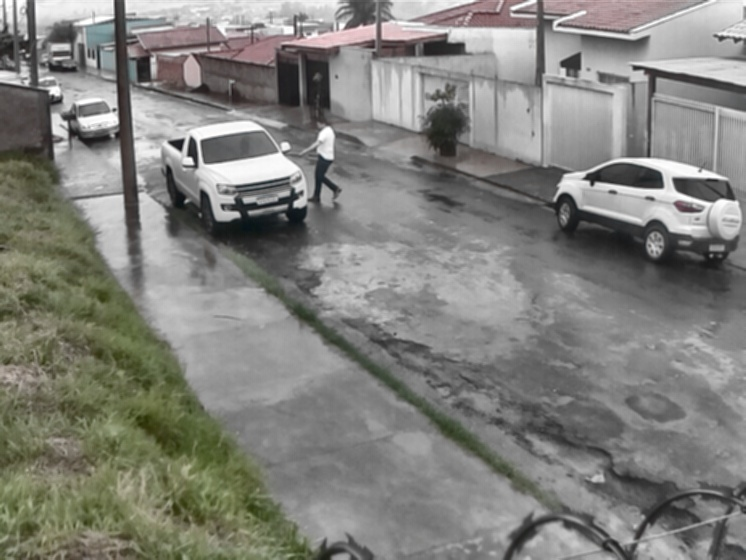person: (297, 115, 342, 205)
